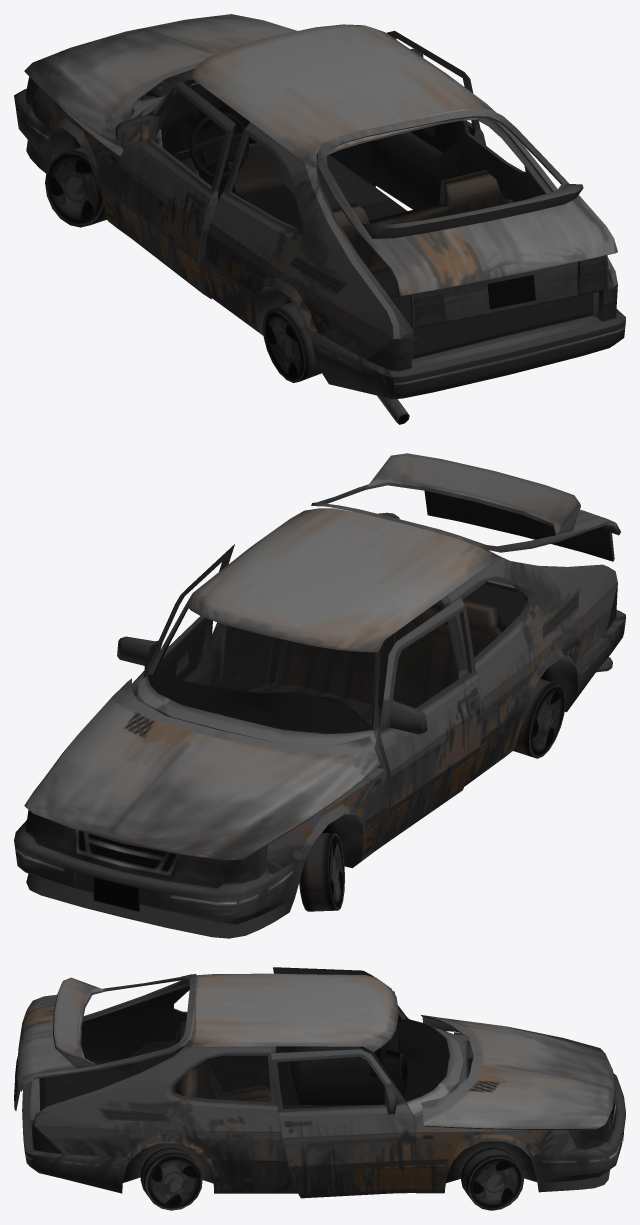
The model's file is Vehicle_en93-900Turbo_Torch.fbx.
The picture shows the model from 3 angles, top to bottom: view 1: azimuth 30°, elevation 25°; view 2: azimuth 150°, elevation 25°; view 3: azimuth 270°, elevation 25°; orthographic projection. The views are drawn at different scales.
Visible parts, largest first — view 1: Body; view 2: Body; view 3: Body.
Boxes of the visible parts, bbox=[...] form: Body: bbox=[14, 14, 625, 424]; Body: bbox=[14, 453, 625, 938]; Body: bbox=[14, 967, 625, 1210].
Size of the model in its own units: 405 by 271 by 920.
